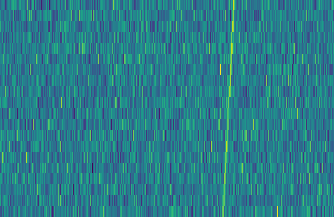signal: (219, 0, 239, 217)
